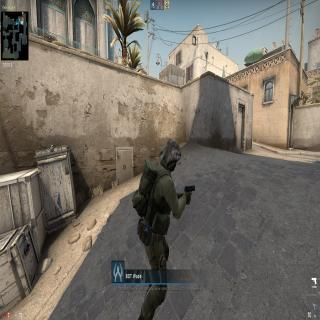CT-Head: (159, 133, 182, 173)
